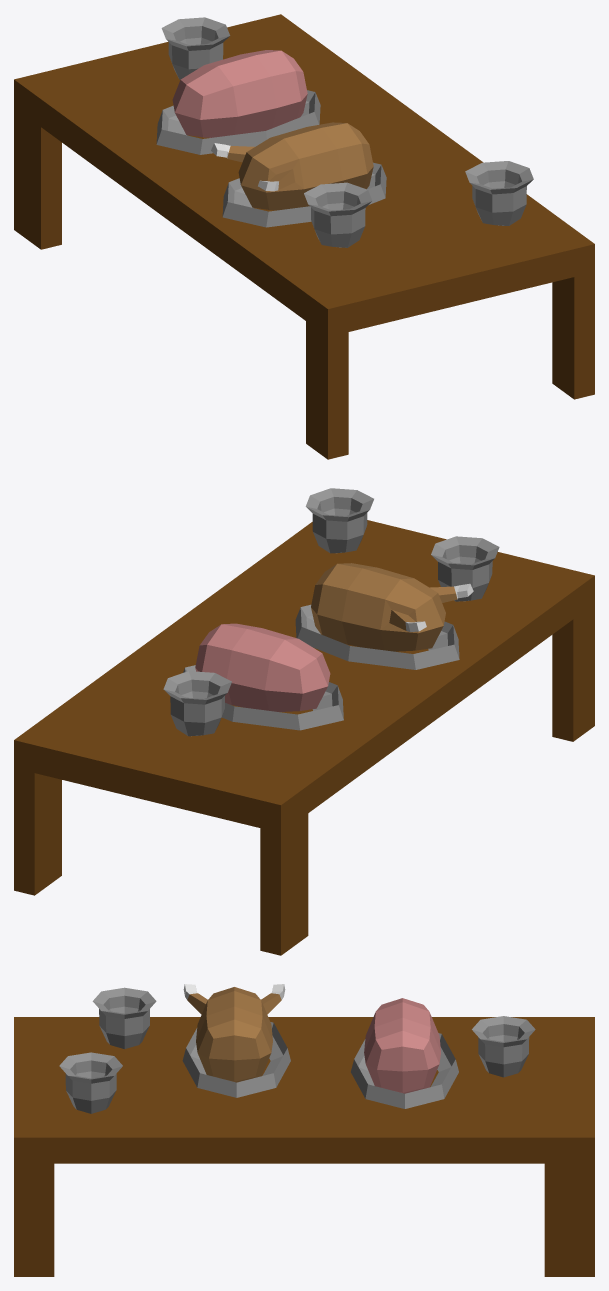
The model's file is table.fbx.
3 renders of one model, top to bottom at view 1: azimuth 30°, elevation 25°; view 2: azimuth 150°, elevation 25°; view 3: azimuth 270°, elevation 25°, orthographic. The views are drawn at different scales.
Parts seen in each view (by area): view 1: table, MEAT, MEAT.001, BOWL, BOWL.002, plate, BOWL.001, plagte; view 2: table, MEAT.001, MEAT, plagte, BOWL, BOWL.001, BOWL.002, plate; view 3: table, MEAT.001, MEAT, BOWL, BOWL.001, BOWL.002, plate, plagte.
Part boxes in pixels (x1=…): table: x1=14, y1=14, x2=594, y2=459; MEAT: x1=172, y1=50, x2=307, y2=137; MEAT.001: x1=227, y1=122, x2=373, y2=210; BOWL: x1=465, y1=161, x2=533, y2=225; BOWL.002: x1=304, y1=182, x2=372, y2=247; plate: x1=156, y1=90, x2=320, y2=154; BOWL.001: x1=161, y1=17, x2=230, y2=79; plagte: x1=222, y1=162, x2=386, y2=227; table: x1=14, y1=520, x2=594, y2=955; MEAT.001: x1=311, y1=563, x2=457, y2=651; MEAT: x1=195, y1=623, x2=330, y2=711; plagte: x1=295, y1=604, x2=459, y2=669; BOWL: x1=305, y1=488, x2=373, y2=553; BOWL.001: x1=163, y1=671, x2=231, y2=736; BOWL.002: x1=431, y1=536, x2=499, y2=601; plate: x1=183, y1=665, x2=343, y2=730; table: x1=14, y1=1017, x2=594, y2=1276; MEAT.001: x1=187, y1=987, x2=281, y2=1082; MEAT: x1=364, y1=998, x2=440, y2=1093; BOWL: x1=59, y1=1052, x2=122, y2=1113; BOWL.001: x1=472, y1=1016, x2=535, y2=1077; BOWL.002: x1=92, y1=987, x2=156, y2=1049; plate: x1=351, y1=1033, x2=458, y2=1108; plagte: x1=182, y1=1022, x2=290, y2=1097.
Size of the model in its own units: 985 by 765 by 2004.
